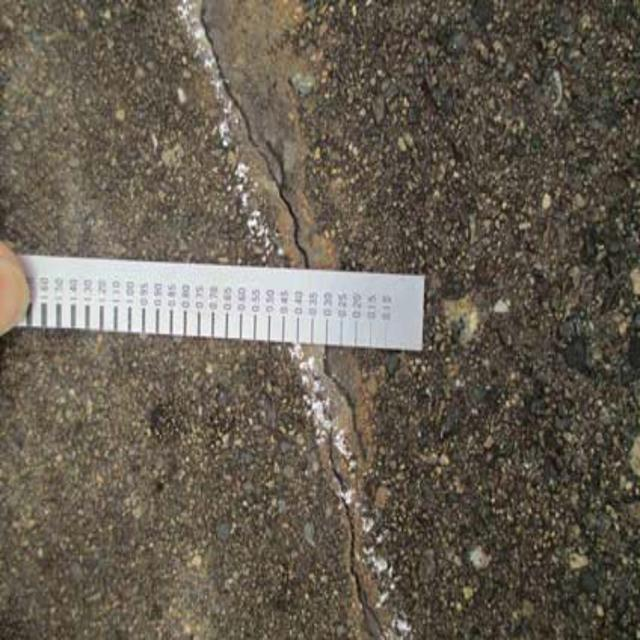crack: (191, 13, 336, 268), (298, 344, 392, 640)
